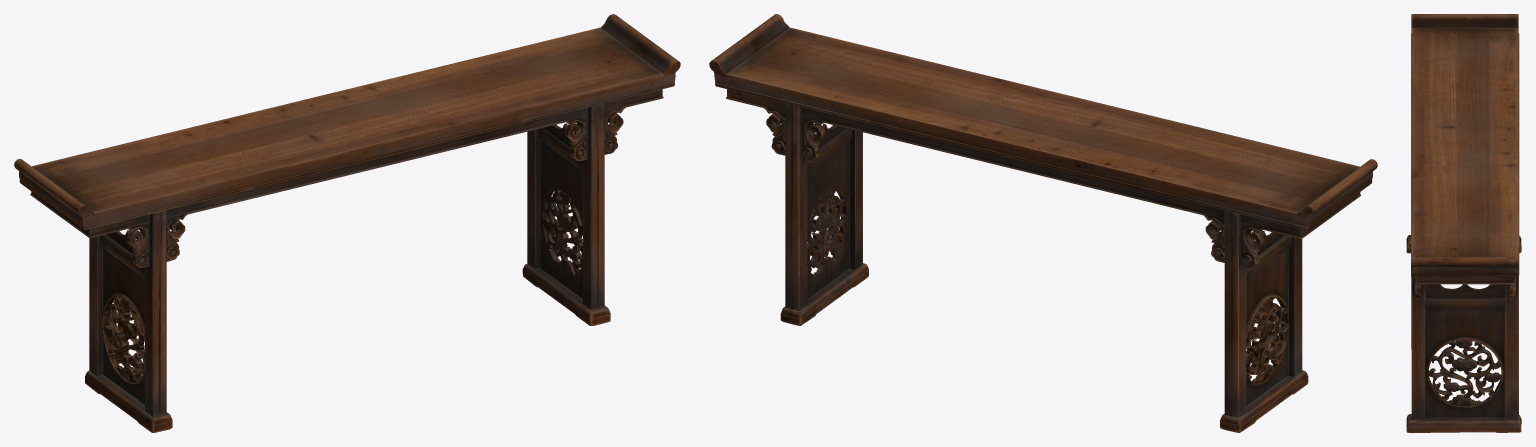
Rendered from chinese_console_table.glb.
3 views of the same model, side by side, from view 1: azimuth 30°, elevation 25°; view 2: azimuth 150°, elevation 25°; view 3: azimuth 270°, elevation 25° (orthographic). The views are drawn at different scales.
Parts seen in each view (by area): view 1: chinese_console_table; view 2: chinese_console_table; view 3: chinese_console_table.
Boxes of the visible parts, x1,y1,x2,y2 form: chinese_console_table: [14, 14, 680, 432]; chinese_console_table: [709, 14, 1377, 432]; chinese_console_table: [1406, 14, 1521, 432].
Bounding box in the file's own units: 1.72 × 0.6607 × 0.3386.
Materials: 1 (1 with a texture image).
